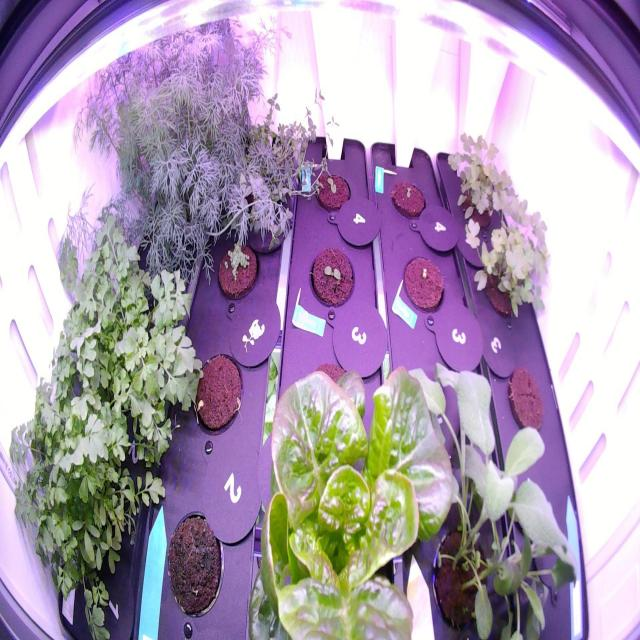Ready: (241, 345, 471, 639)
germination: (210, 229, 264, 309), (397, 243, 450, 320), (304, 239, 357, 315), (308, 160, 354, 221), (384, 170, 430, 224)
pod: (157, 500, 230, 625), (186, 336, 248, 441), (501, 356, 550, 442)
